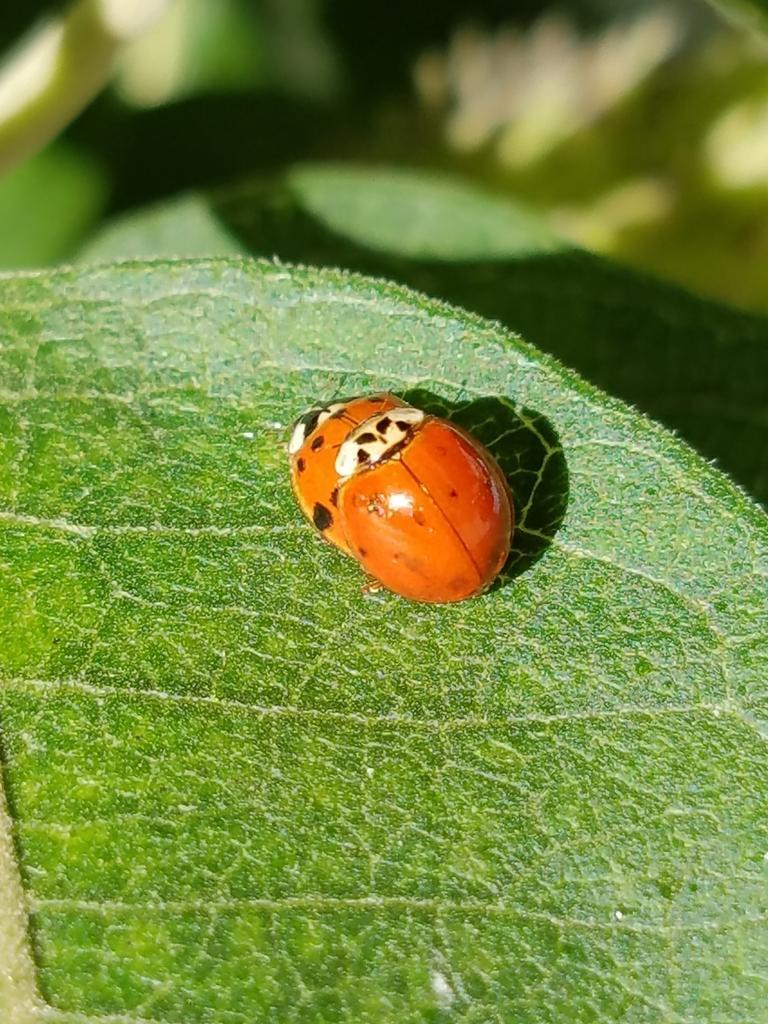ladybug: (312, 386, 518, 604), (286, 389, 437, 567)
